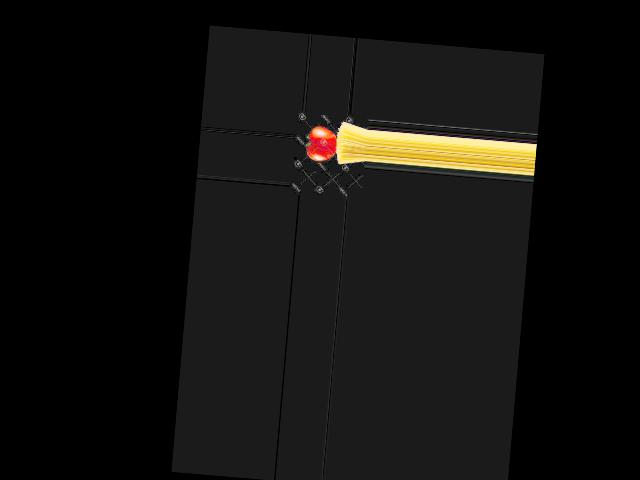tomato: (306, 125, 338, 161)
